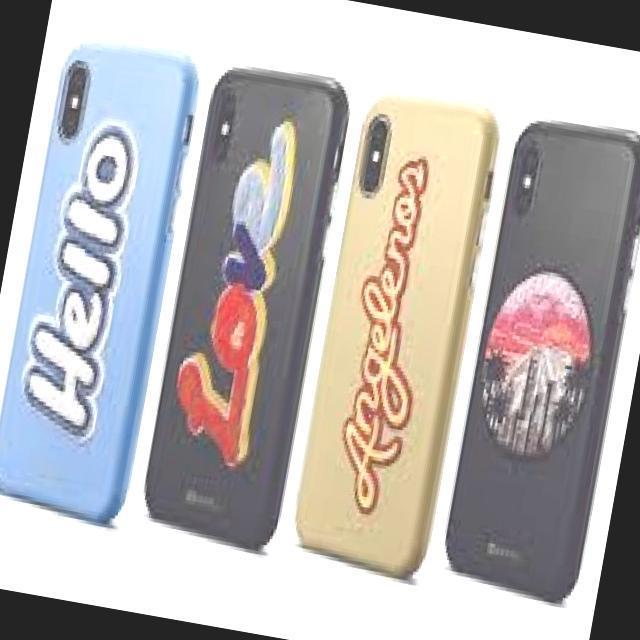lens: (50, 58, 90, 138), (359, 115, 387, 199), (512, 146, 544, 218), (210, 79, 238, 160)
phone: (146, 64, 347, 567), (297, 82, 496, 588), (0, 46, 203, 522), (446, 110, 640, 602)
